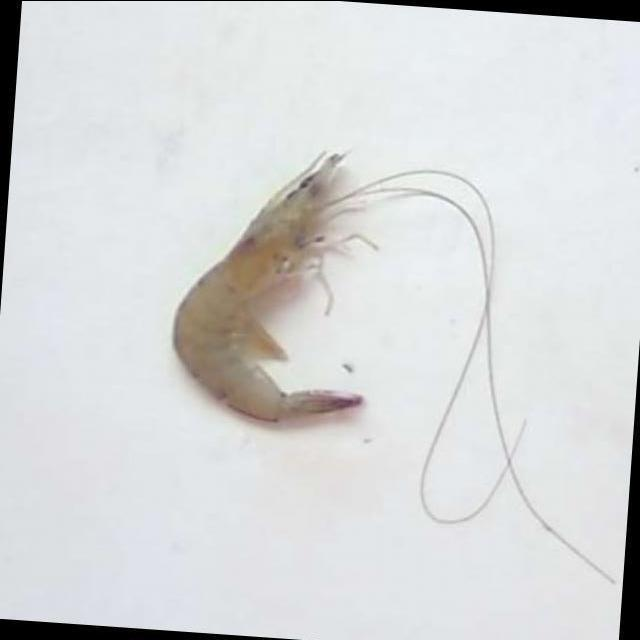shrimp: (173, 152, 361, 423)
